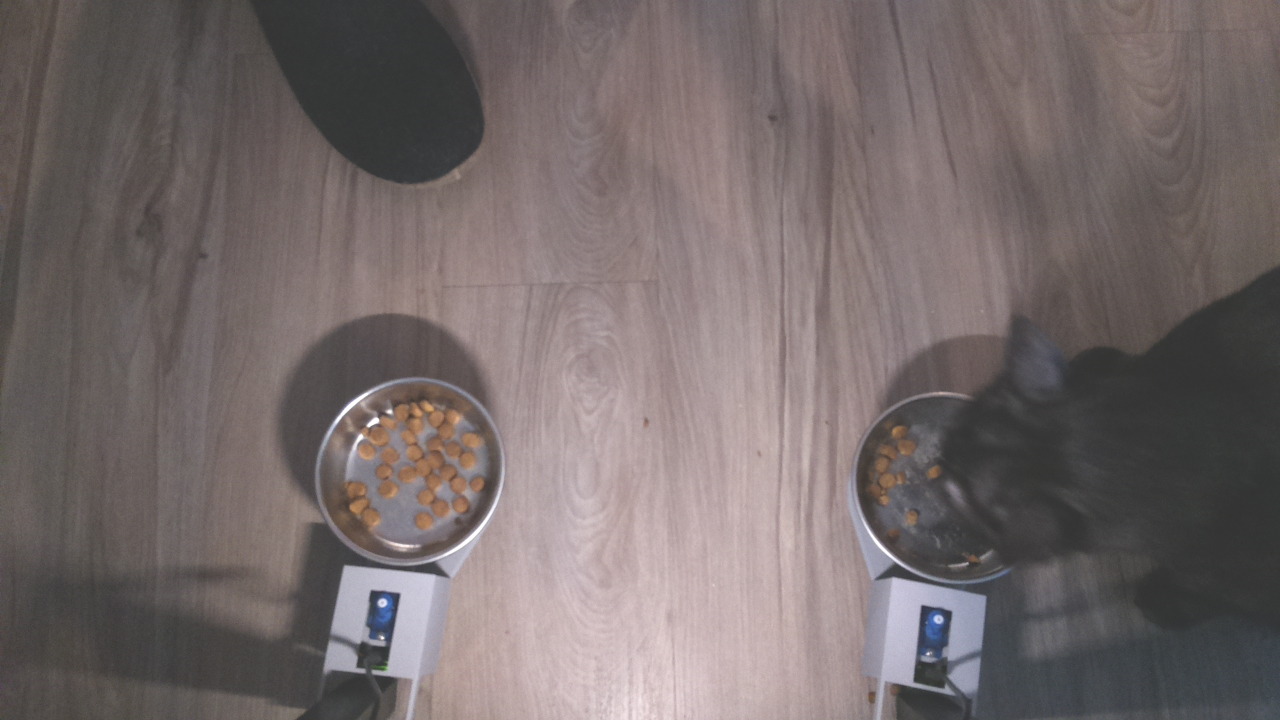open_bowl: (307, 373, 515, 576)
saki_eating: (862, 323, 1136, 593)
